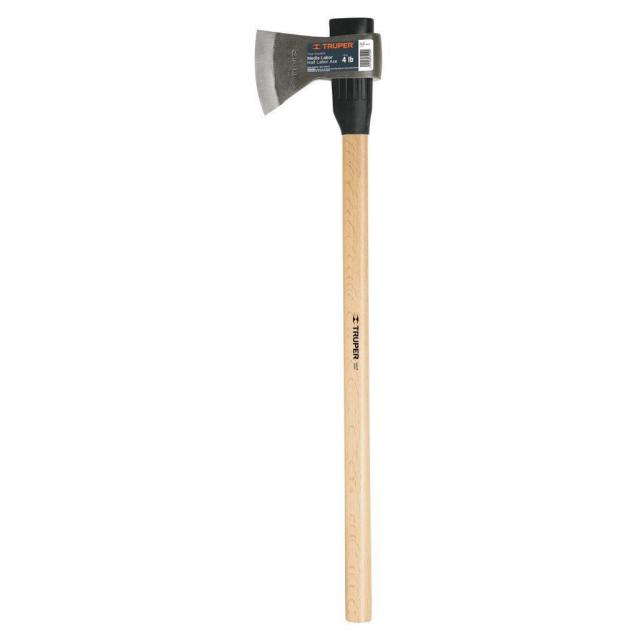Kapak: (238, 11, 390, 610)
